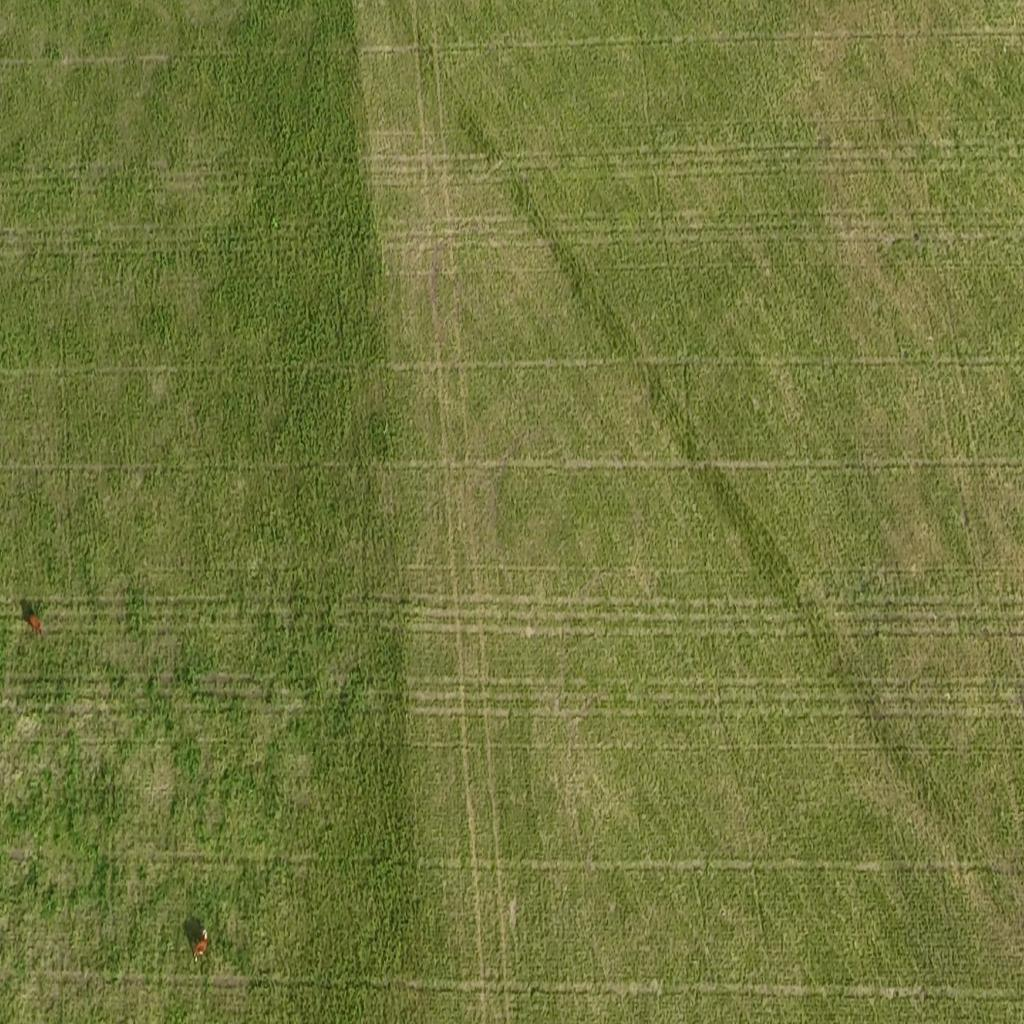cow: (190, 925, 210, 963), (23, 609, 45, 640)
